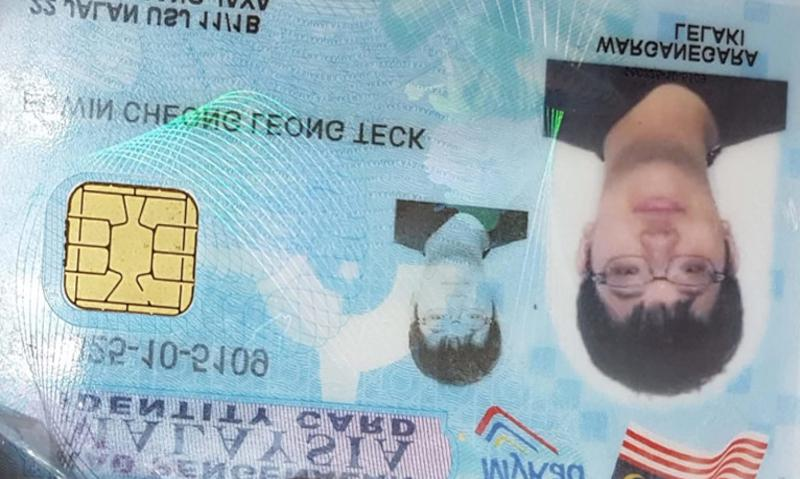hologram: (200, 141, 367, 326)
